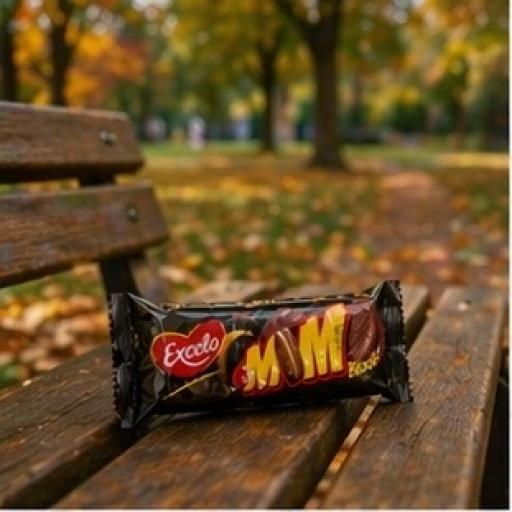MOMO: (78, 264, 482, 439)
